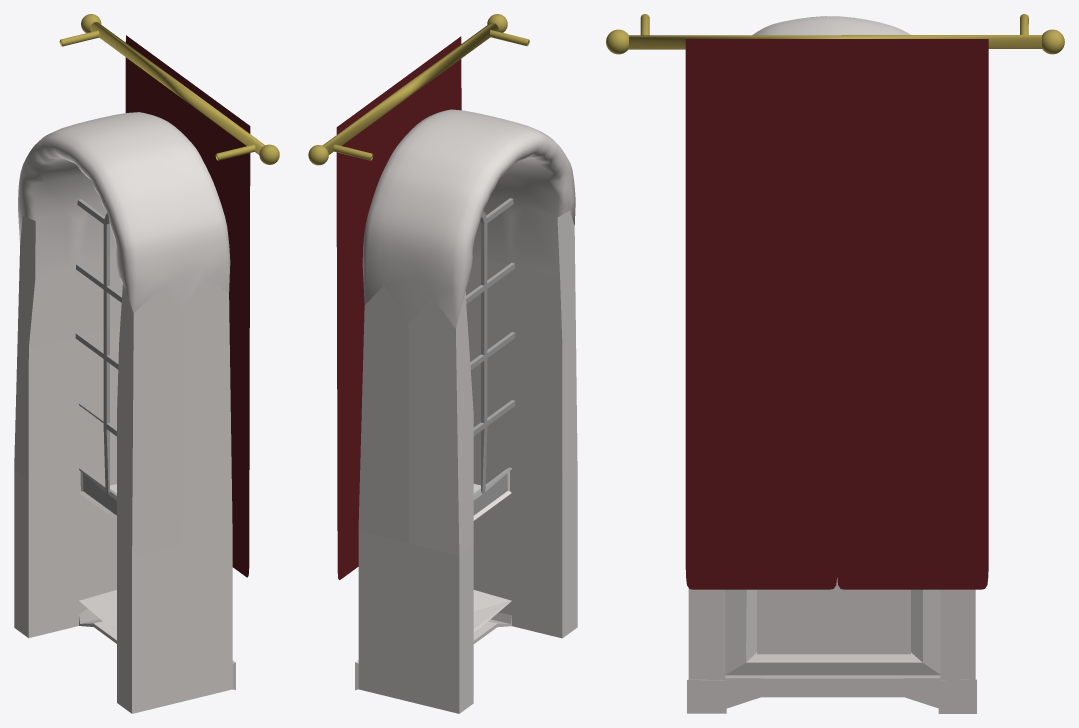
The model's file is window.fbx.
3 renders of one model, left to right at view 1: azimuth 30°, elevation 25°; view 2: azimuth 150°, elevation 25°; view 3: azimuth 270°, elevation 25°, orthographic. The views are drawn at different scales.
Parts seen in each view (by area): view 1: Cylinder.002, Curtain.001, Curtain; view 2: Cylinder.002, Curtain, Curtain.001; view 3: Curtain.001, Curtain, Cylinder.002.
Boxes of the visible parts, x1,y1,x2,y2 form: Cylinder.002: (14, 14, 279, 713); Curtain.001: (188, 81, 250, 577); Curtain: (125, 35, 188, 138); Cylinder.002: (308, 14, 577, 713); Curtain: (336, 82, 399, 580); Curtain.001: (399, 36, 461, 142); Curtain.001: (685, 39, 837, 589); Curtain: (837, 39, 988, 589); Cylinder.002: (606, 14, 1064, 713).
Bounding box in the file's own units: 46.94 × 212 × 128.
